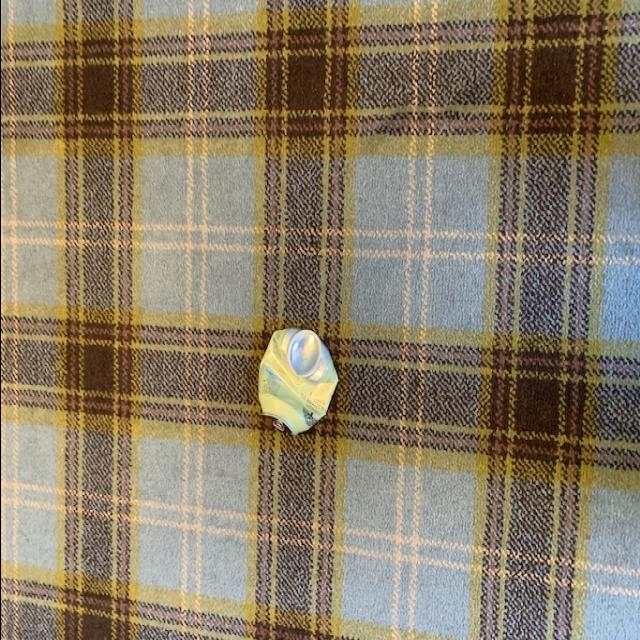Aluminum Can: (253, 317, 341, 445)
